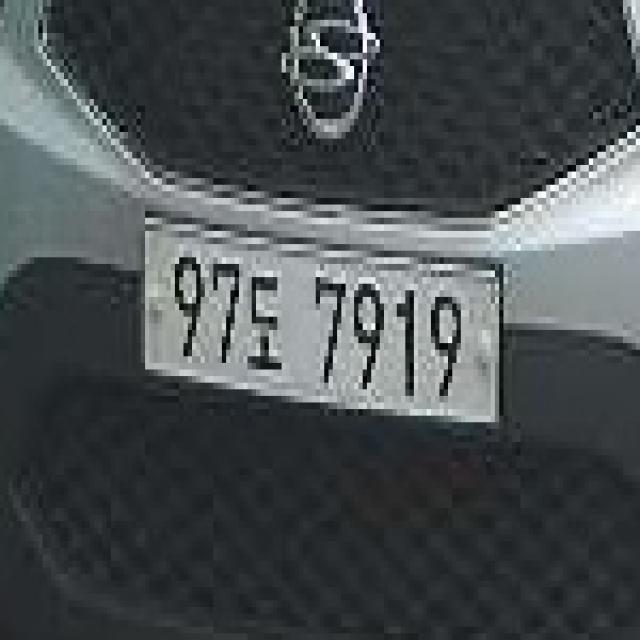1: (392, 281, 424, 399)
7: (309, 266, 346, 384), (212, 256, 242, 362)
9: (428, 288, 469, 406), (350, 274, 388, 391), (170, 247, 203, 364)
do: (248, 268, 286, 378)
license_plate: (141, 218, 502, 433)
